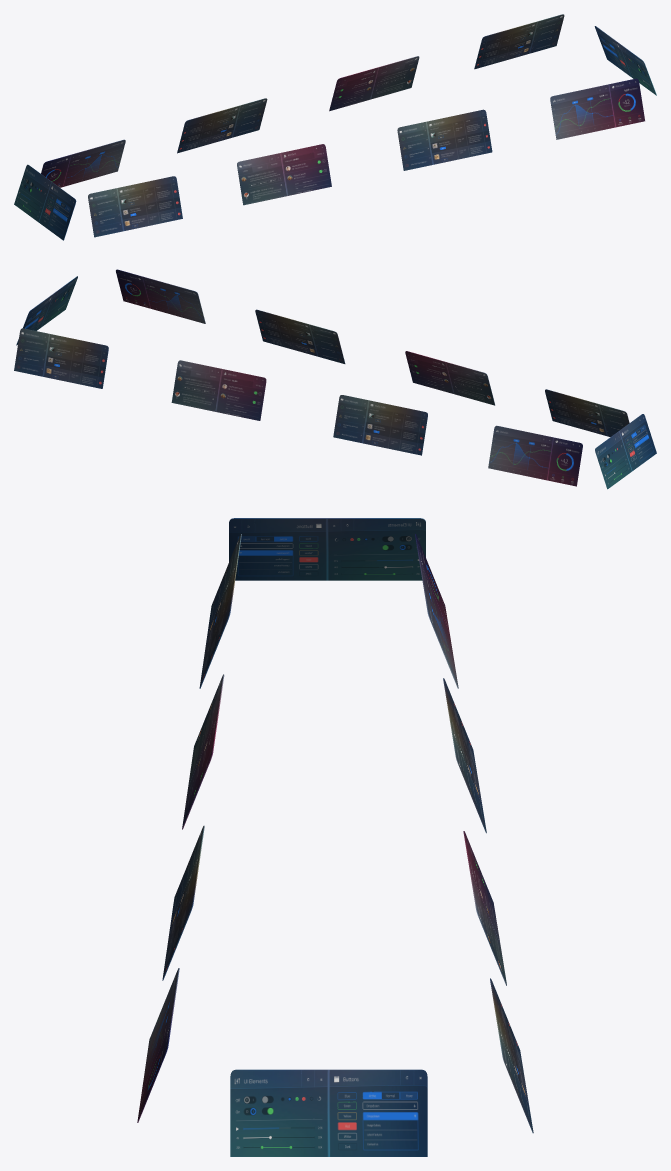
File: SciFi_TouchScreen.FBX
3 views of the same model, one above another, from view 1: azimuth 30°, elevation 25°; view 2: azimuth 150°, elevation 25°; view 3: azimuth 270°, elevation 25° (orthographic). The views are drawn at different scales.
Parts seen in each view (by area): view 1: SciFi_TouchScreen_03, SciFi_TouchScreen_05, SciFi_TouchScreen_04, SciFi_TouchScreen_06, SciFi_TouchScreen_02, SciFi_TouchScreen_08, SciFi_TouchScreen_07, SciFi_TouchScreen_09, SciFi_TouchScreen_10, SciFi_TouchScreen_01; view 2: SciFi_TouchScreen_08, SciFi_TouchScreen_07, SciFi_TouchScreen_09, SciFi_TouchScreen_10, SciFi_TouchScreen_04, SciFi_TouchScreen_05, SciFi_TouchScreen_06, SciFi_TouchScreen_02, SciFi_TouchScreen_03, SciFi_TouchScreen_01; view 3: SciFi_TouchScreen_01, SciFi_TouchScreen_02, SciFi_TouchScreen_04, SciFi_TouchScreen_05, SciFi_TouchScreen_03, SciFi_TouchScreen_06, SciFi_TouchScreen_09, SciFi_TouchScreen_10, SciFi_TouchScreen_07, SciFi_TouchScreen_08.
Part boxes in pixels (left/top/right/bottom): SciFi_TouchScreen_03: left=88, top=176, right=182, bottom=237; SciFi_TouchScreen_05: left=397, top=109, right=492, bottom=170; SciFi_TouchScreen_04: left=237, top=144, right=331, bottom=205; SciFi_TouchScreen_06: left=550, top=78, right=644, bottom=139; SciFi_TouchScreen_02: left=14, top=164, right=76, bottom=240; SciFi_TouchScreen_08: left=329, top=56, right=419, bottom=111; SciFi_TouchScreen_07: left=474, top=14, right=564, bottom=69; SciFi_TouchScreen_09: left=177, top=98, right=267, bottom=153; SciFi_TouchScreen_10: left=41, top=139, right=125, bottom=187; SciFi_TouchScreen_01: left=594, top=26, right=656, bottom=95; SciFi_TouchScreen_08: left=171, top=360, right=266, bottom=420; SciFi_TouchScreen_07: left=14, top=328, right=108, bottom=388; SciFi_TouchScreen_09: left=333, top=395, right=427, bottom=455; SciFi_TouchScreen_10: left=488, top=425, right=582, bottom=486; SciFi_TouchScreen_04: left=405, top=351, right=495, bottom=405; SciFi_TouchScreen_05: left=255, top=309, right=345, bottom=363; SciFi_TouchScreen_06: left=116, top=269, right=205, bottom=323; SciFi_TouchScreen_02: left=595, top=414, right=656, bottom=489; SciFi_TouchScreen_03: left=545, top=389, right=629, bottom=436; SciFi_TouchScreen_01: left=16, top=276, right=77, bottom=345; SciFi_TouchScreen_01: left=230, top=1069, right=427, bottom=1156; SciFi_TouchScreen_02: left=229, top=518, right=425, bottom=580; SciFi_TouchScreen_04: left=182, top=674, right=224, bottom=829; SciFi_TouchScreen_05: left=162, top=825, right=204, bottom=980; SciFi_TouchScreen_03: left=199, top=534, right=241, bottom=688; SciFi_TouchScreen_06: left=137, top=968, right=179, bottom=1122; SciFi_TouchScreen_09: left=443, top=678, right=486, bottom=833; SciFi_TouchScreen_10: left=415, top=534, right=458, bottom=688; SciFi_TouchScreen_07: left=490, top=978, right=533, bottom=1133; SciFi_TouchScreen_08: left=463, top=831, right=506, bottom=985.
Size of the model in its own units: 3691 by 223 by 1071.
Materials: 1 (1 with a texture image).
